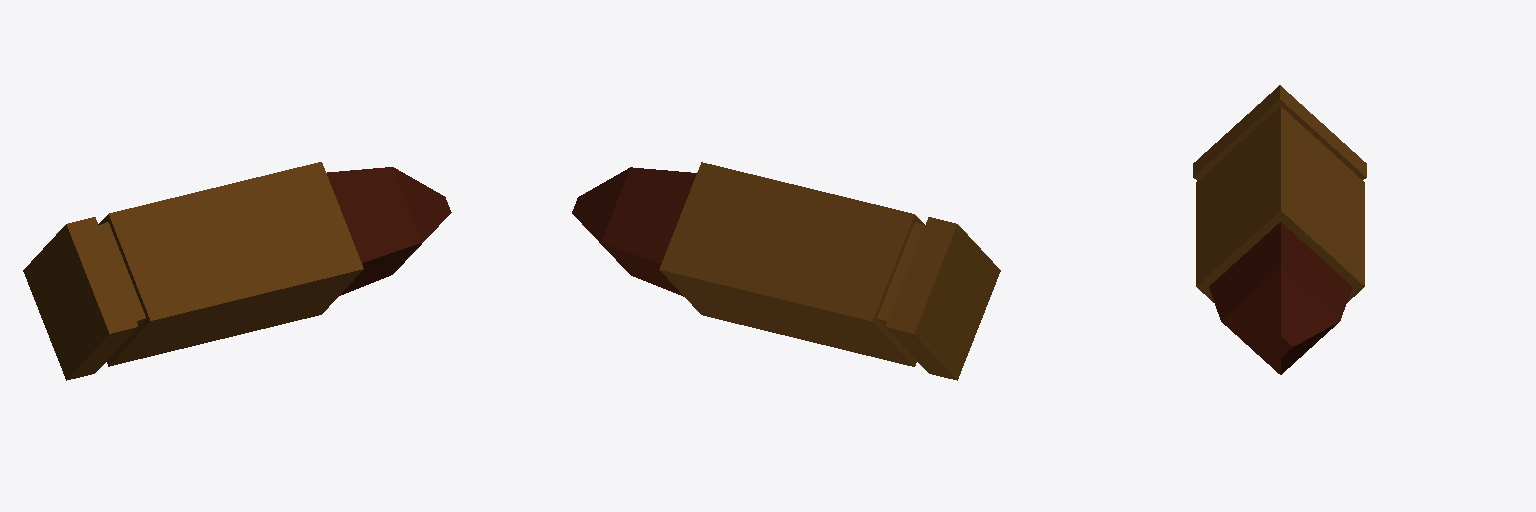
The model's file is bullet-9mm.obj.
3 views of the same model, side by side, from view 1: azimuth 30°, elevation 25°; view 2: azimuth 150°, elevation 25°; view 3: azimuth 270°, elevation 25° (orthographic).
Parts seen in each view (by area): view 1: bullet-9mm_Cube.003; view 2: bullet-9mm_Cube.003; view 3: bullet-9mm_Cube.003.
Boxes of the visible parts, <box> form: bullet-9mm_Cube.003: <box>23,162,451,380</box>; bullet-9mm_Cube.003: <box>572,162,1000,380</box>; bullet-9mm_Cube.003: <box>1193,85,1366,374</box>.
Bounding box in the file's own units: 0.0239 × 0.0094 × 0.0094.